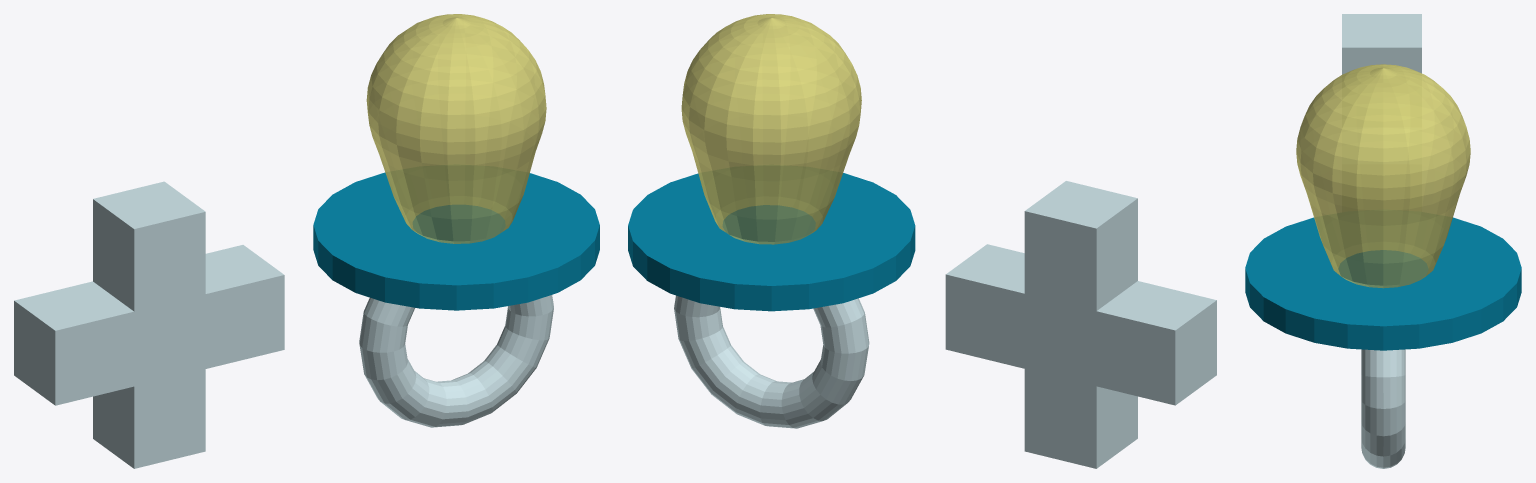
Rendered from Icon Gain People.fbx.
3 renders of one model, left to right at view 1: azimuth 30°, elevation 25°; view 2: azimuth 150°, elevation 25°; view 3: azimuth 270°, elevation 25°, orthographic. The views are drawn at different scales.
Parts seen in each view (by area): view 1: Icon_Gain_Person; view 2: Icon_Gain_Person; view 3: Icon_Gain_Person.
Boxes of the visible parts, left/top/right/bottom form: Icon_Gain_Person: left=14, top=14, right=599, bottom=468; Icon_Gain_Person: left=628, top=14, right=1216, bottom=468; Icon_Gain_Person: left=1245, top=14, right=1521, bottom=468.
Bounding box in the file's own units: 7.64 × 5.42 × 3.47.
